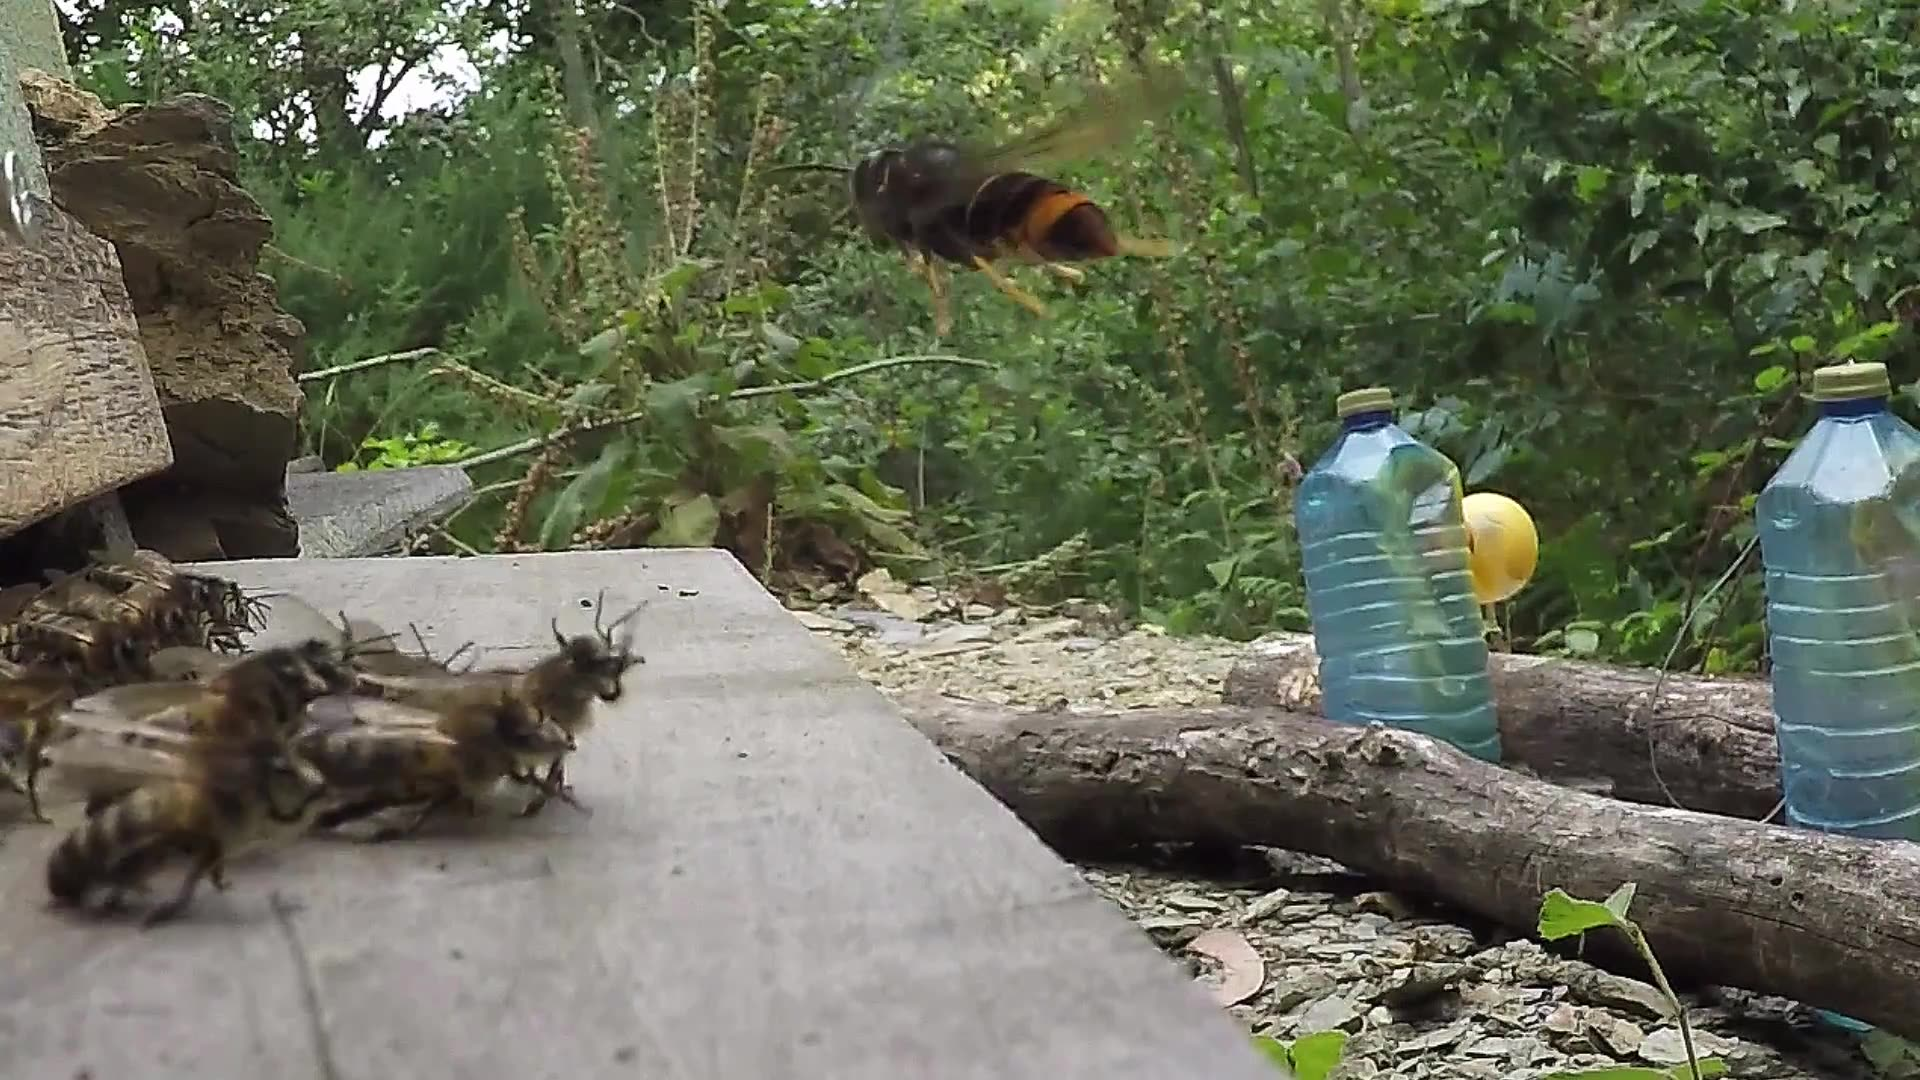bee: (291, 625, 641, 832), (29, 665, 284, 916), (13, 541, 284, 671)
hornet: (828, 125, 1141, 287)
